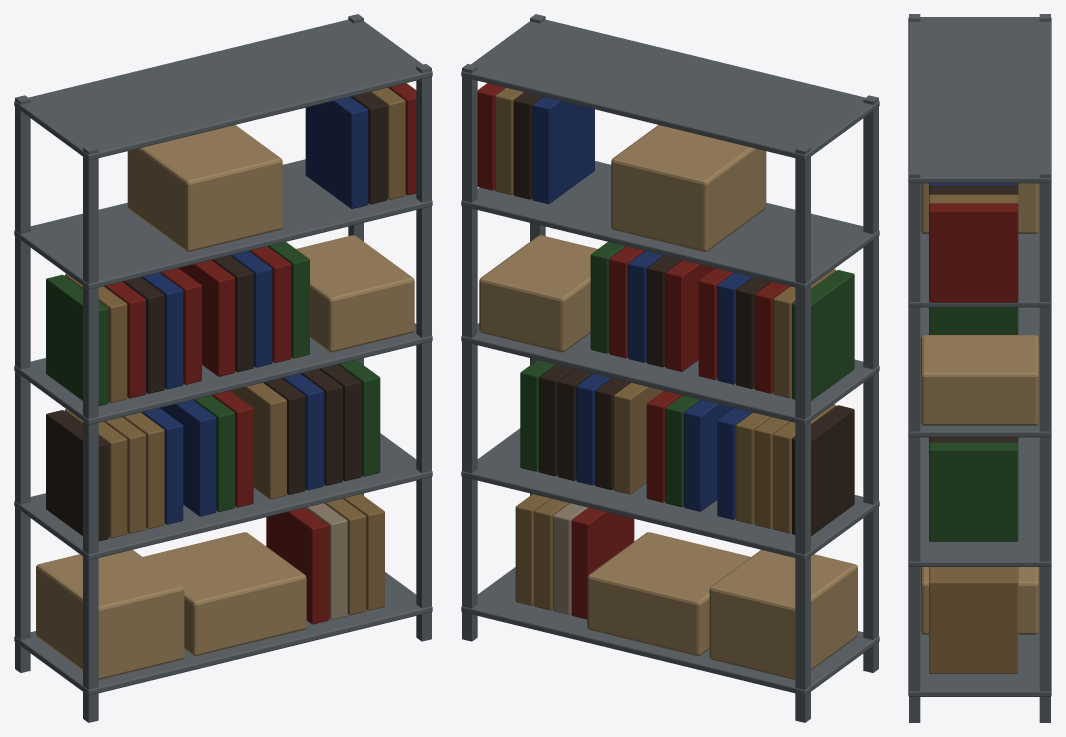
File: metal_shelf.glb
The picture shows the model from 3 angles, left to right: view 1: azimuth 30°, elevation 25°; view 2: azimuth 150°, elevation 25°; view 3: azimuth 270°, elevation 25°; orthographic projection. The views are drawn at different scales.
Visible parts, largest first — view 1: metal_shelf; view 2: metal_shelf; view 3: metal_shelf.
Part boxes in pixels (bbox=[...]): metal_shelf: bbox=[14, 14, 432, 722]; metal_shelf: bbox=[461, 14, 879, 722]; metal_shelf: bbox=[908, 14, 1051, 722].
Size of the model in its own units: 1.21 by 1.9 by 0.45.
